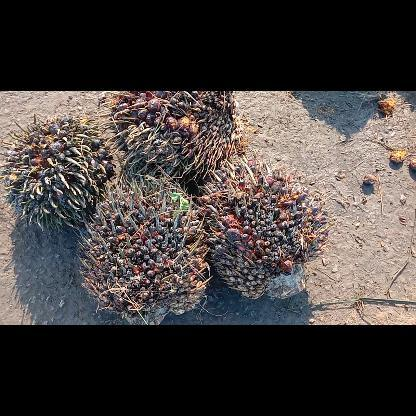TBS abnormal: (194, 148, 332, 302), (78, 166, 212, 324), (0, 110, 117, 235)
TBS masak: (98, 90, 244, 182)
